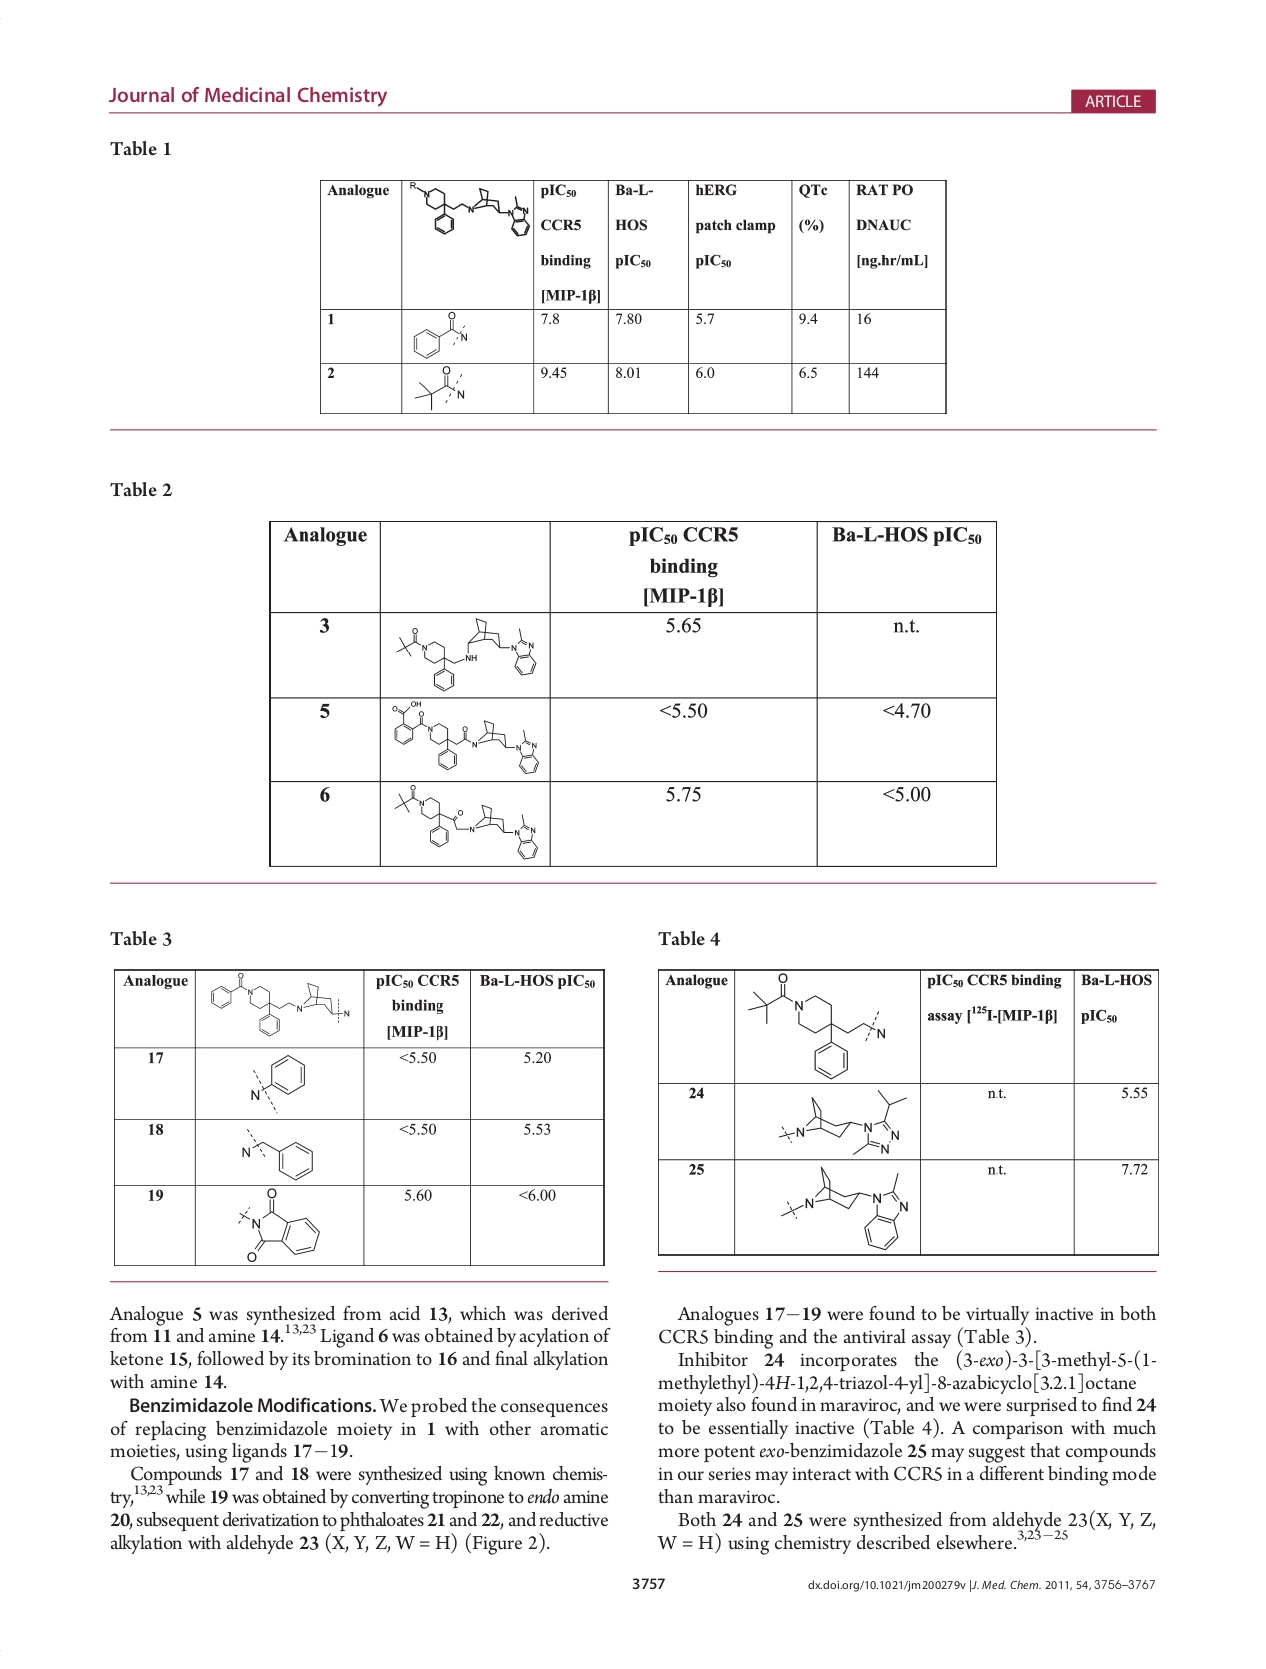exist_molecular: (746, 973, 888, 1083), (778, 1165, 914, 1251), (390, 701, 541, 777), (394, 785, 539, 862), (395, 616, 537, 692), (210, 972, 352, 1039), (775, 1089, 910, 1154), (406, 180, 533, 241), (235, 1186, 320, 1263), (237, 1126, 315, 1182), (247, 1055, 309, 1114), (410, 310, 471, 360), (414, 364, 465, 410)
